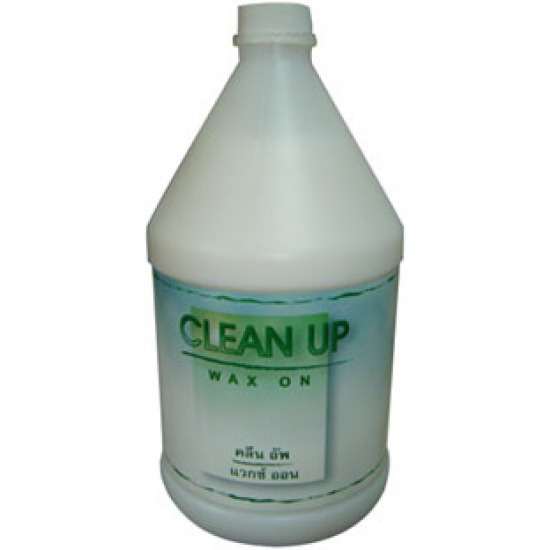Insecticide: (145, 1, 409, 549)
